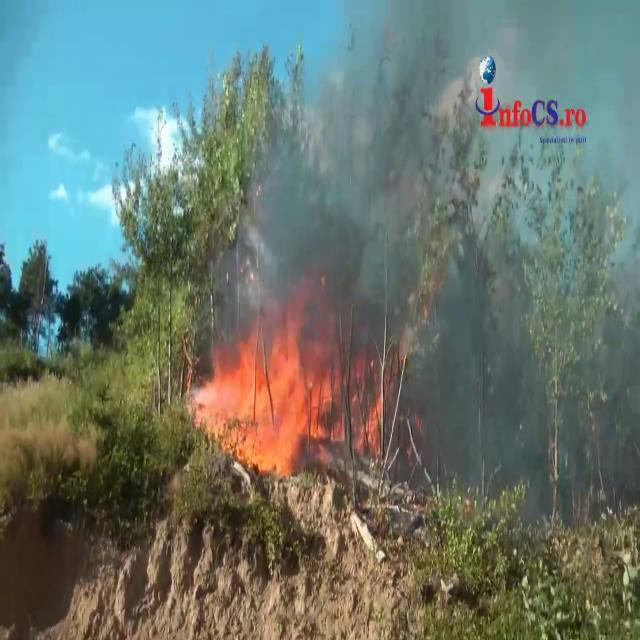Fire: (190, 313, 348, 479)
Smoke: (240, 2, 452, 370)
